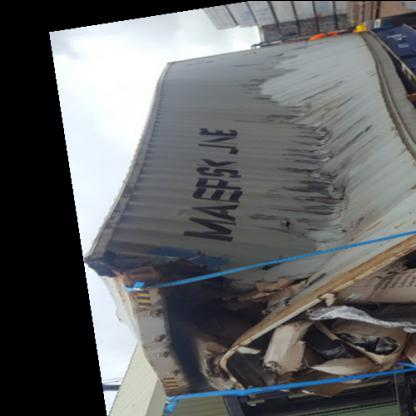Damage: (96, 32, 412, 404)
